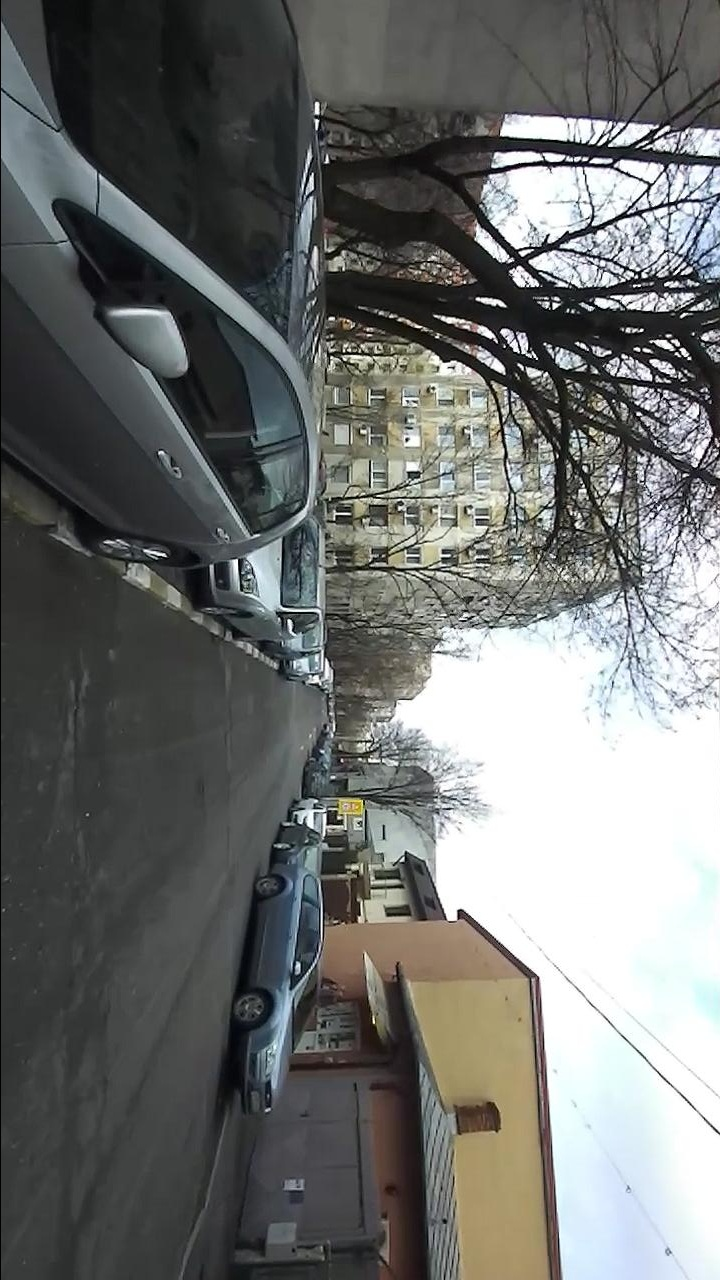pothole: (55, 663, 92, 793), (194, 775, 211, 800)
